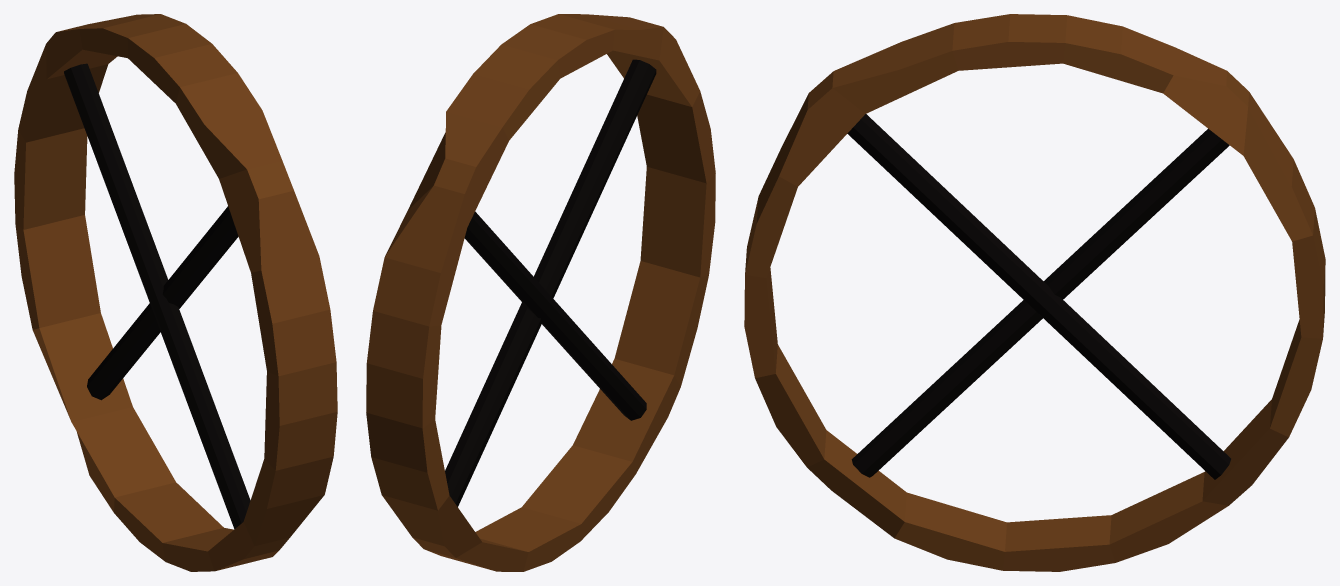
File: wheel.fbx
The picture shows the model from 3 angles, left to right: view 1: azimuth 30°, elevation 25°; view 2: azimuth 150°, elevation 25°; view 3: azimuth 270°, elevation 25°; orthographic projection. The views are drawn at different scales.
Visible parts, largest first — view 1: SHIP.011; view 2: SHIP.011; view 3: SHIP.011.
Part boxes in pixels (bbox=[...]): SHIP.011: bbox=[14, 14, 337, 571]; SHIP.011: bbox=[366, 14, 715, 571]; SHIP.011: bbox=[744, 14, 1325, 571].
Size of the model in its own units: 27.24 by 174 by 174.
